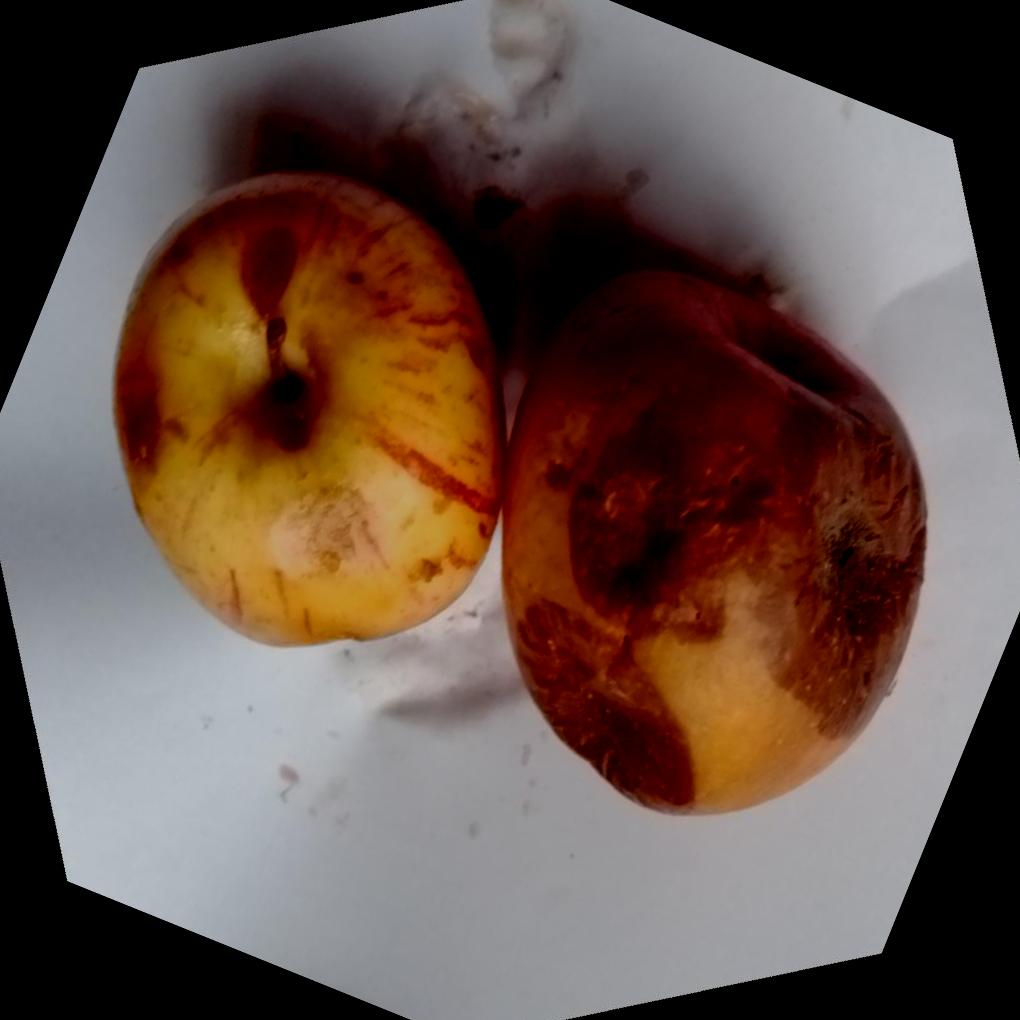FreshOrange: (110, 170, 930, 820)
